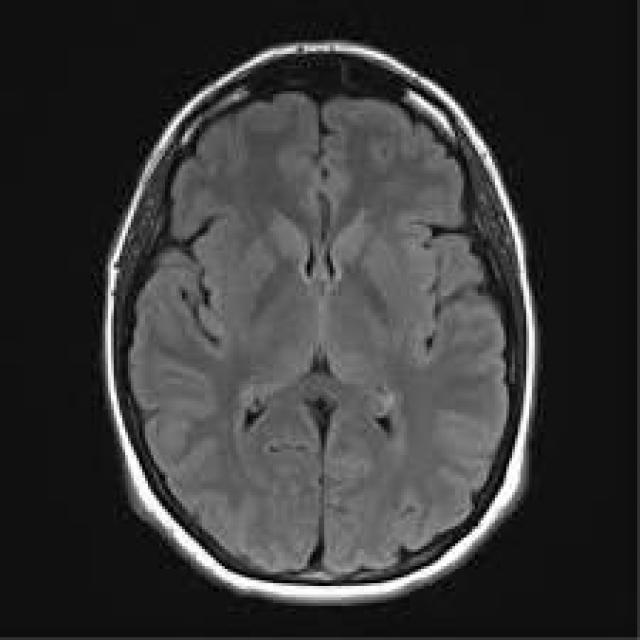notumor: (102, 40, 546, 612)
